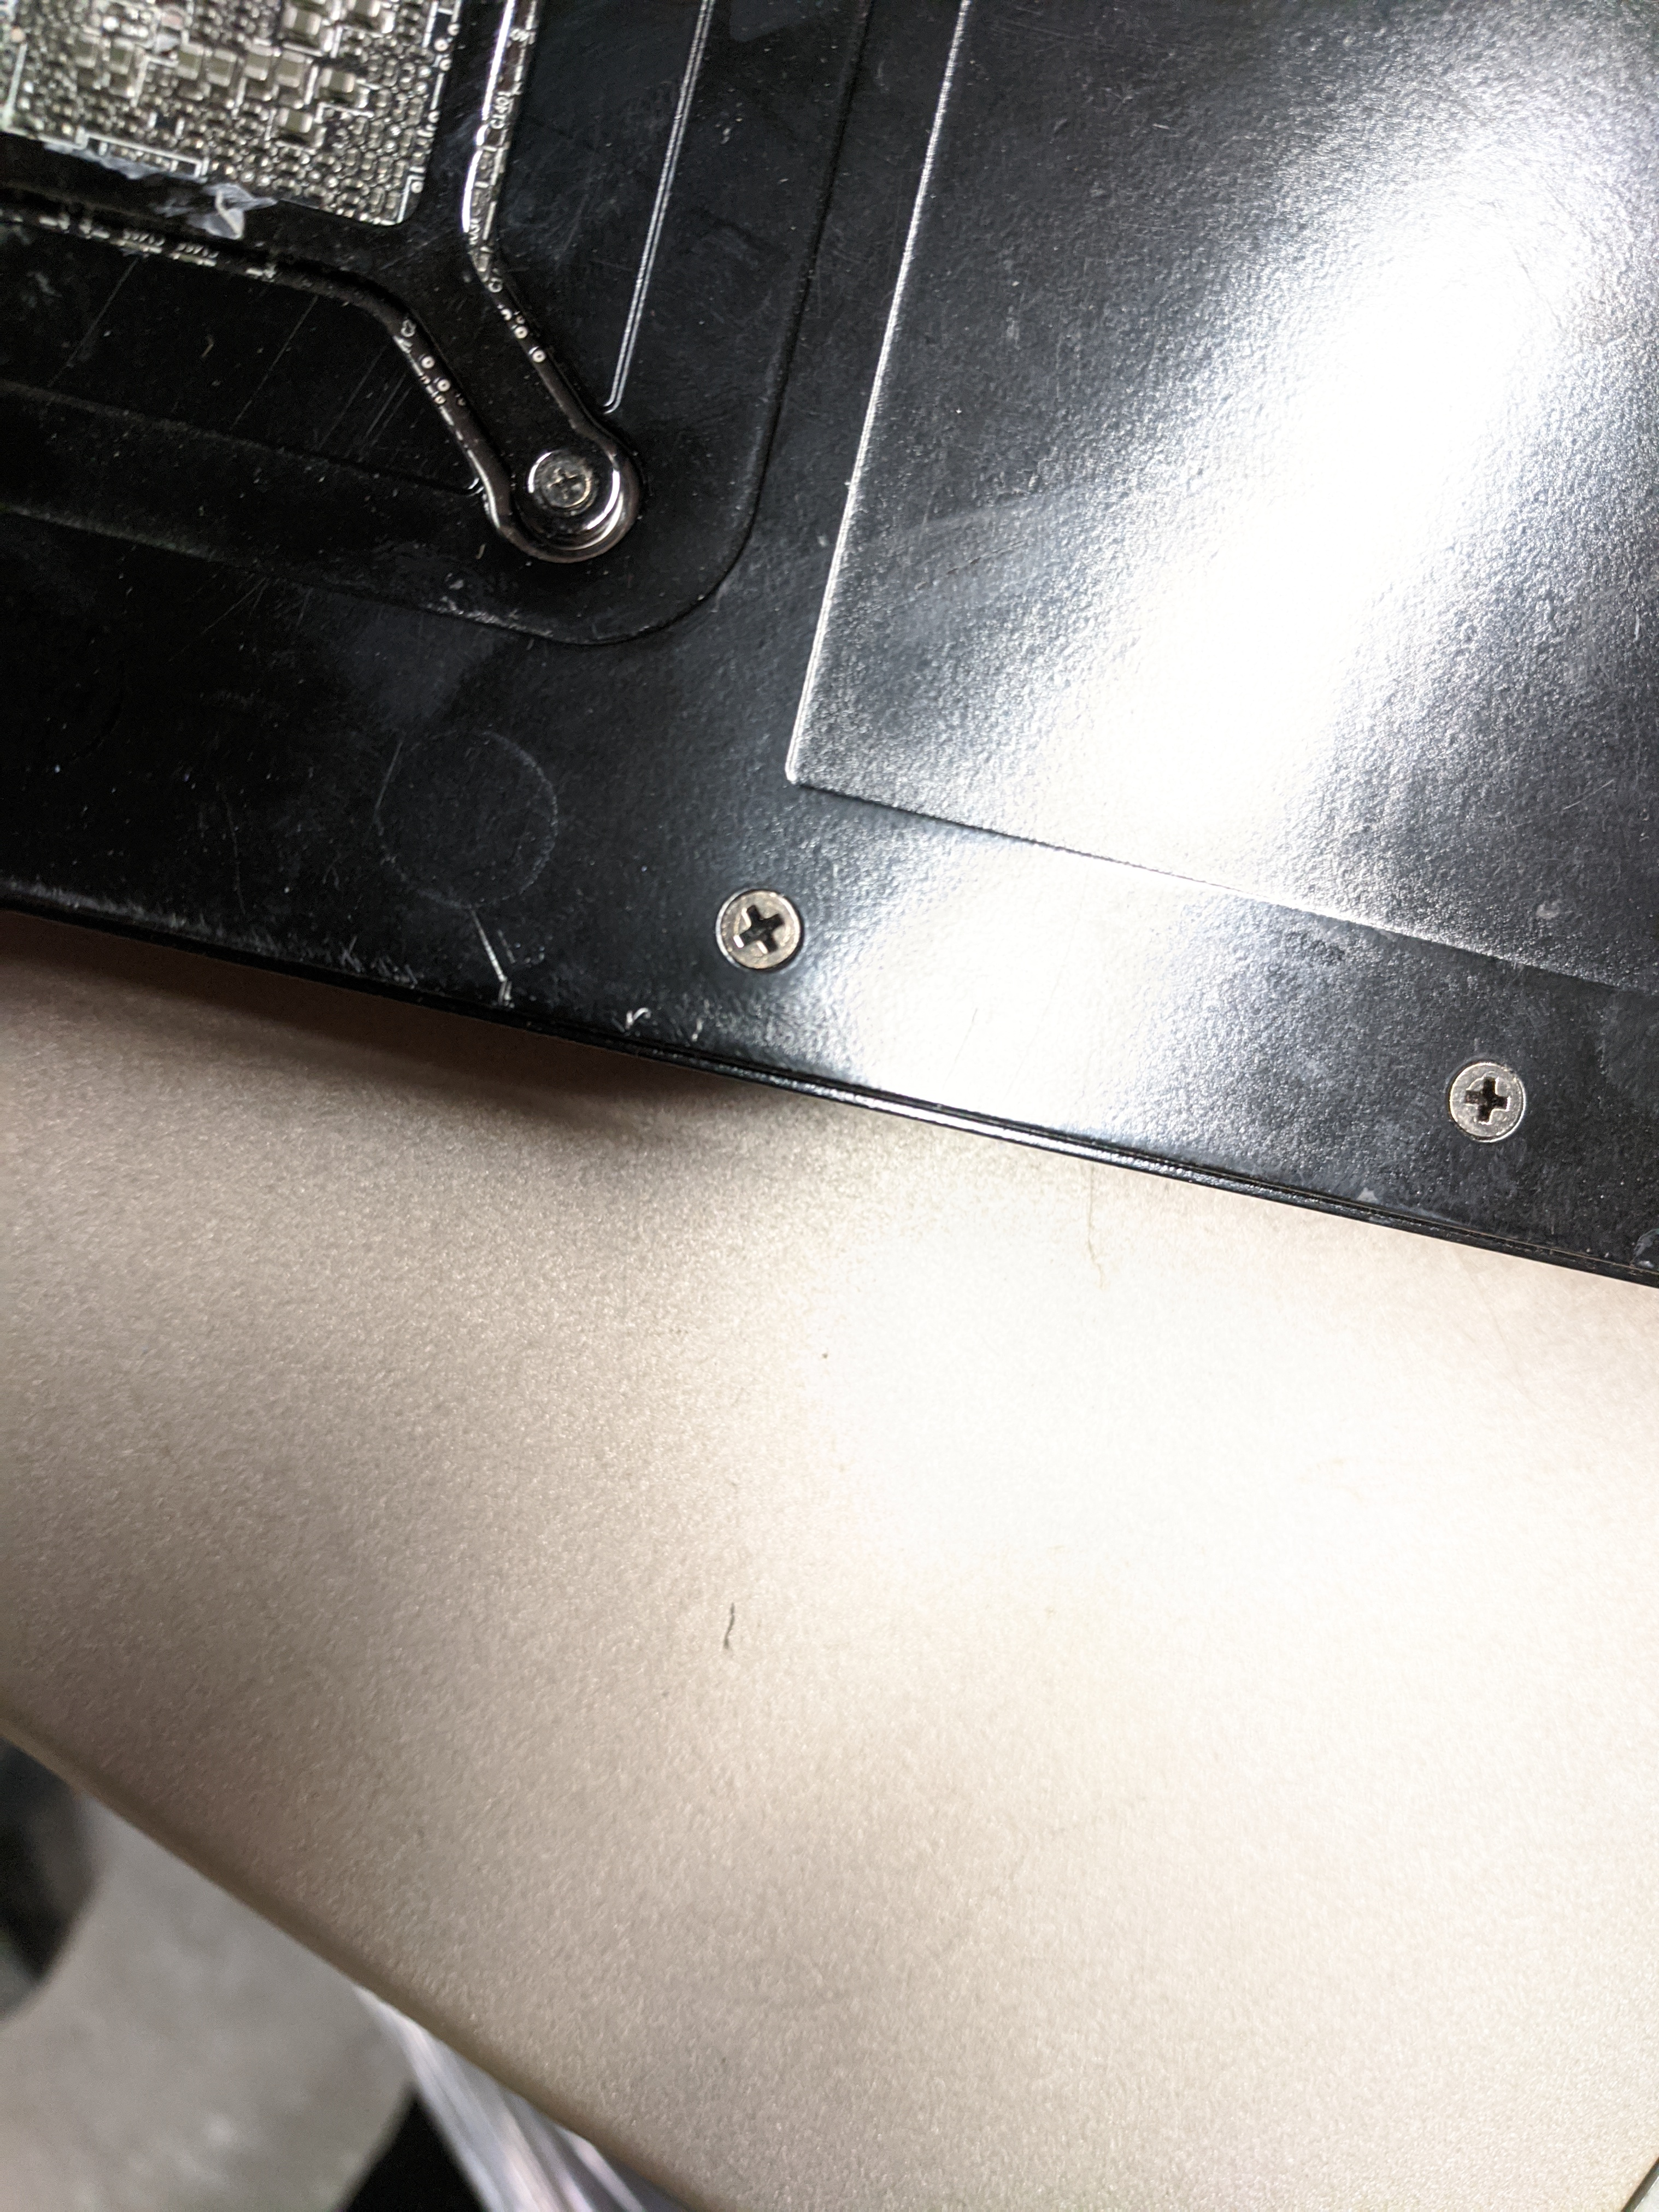cross_recessed_screw: (706, 866, 807, 981), (1439, 1045, 1534, 1141), (525, 441, 603, 512)
